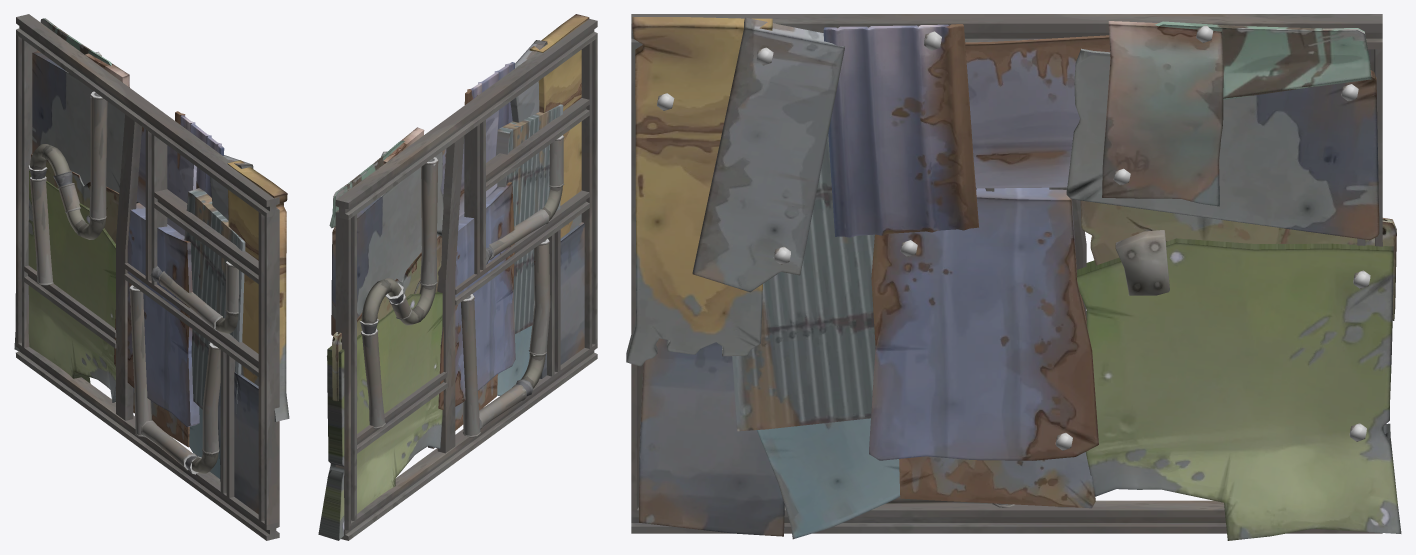
Rendered from metal-wall.glb.
3 renders of one model, left to right at view 1: azimuth 30°, elevation 25°; view 2: azimuth 150°, elevation 25°; view 3: azimuth 270°, elevation 25°, orthographic. The views are drawn at different scales.
Parts seen in each view (by area): view 1: PBW_M1_Solid.dmx-static; view 2: PBW_M1_Solid.dmx-static; view 3: PBW_M1_Solid.dmx-static.
Boxes of the visible parts, bbox=[...] form: PBW_M1_Solid.dmx-static: bbox=[14, 14, 289, 540]; PBW_M1_Solid.dmx-static: bbox=[318, 14, 597, 540]; PBW_M1_Solid.dmx-static: bbox=[626, 14, 1401, 540].
Bounding box in the file's own units: 0.4644 × 4.15 × 5.59.
Materials: 1 (1 with a texture image).
